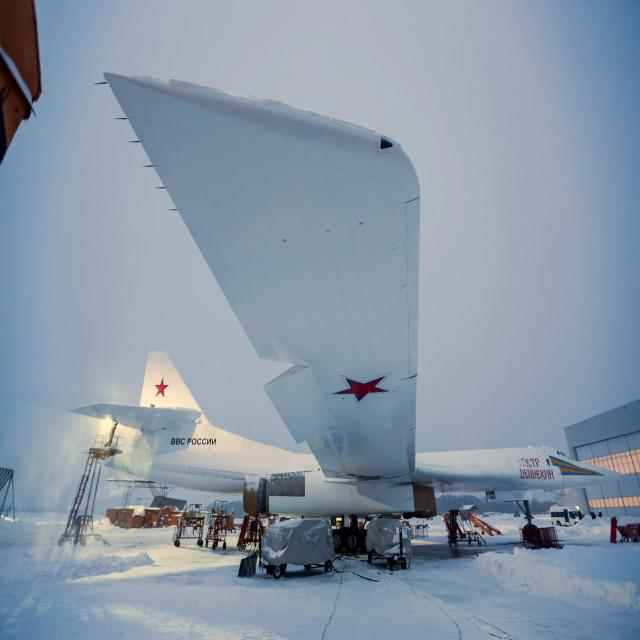MIL_Plane: (67, 72, 626, 553)
